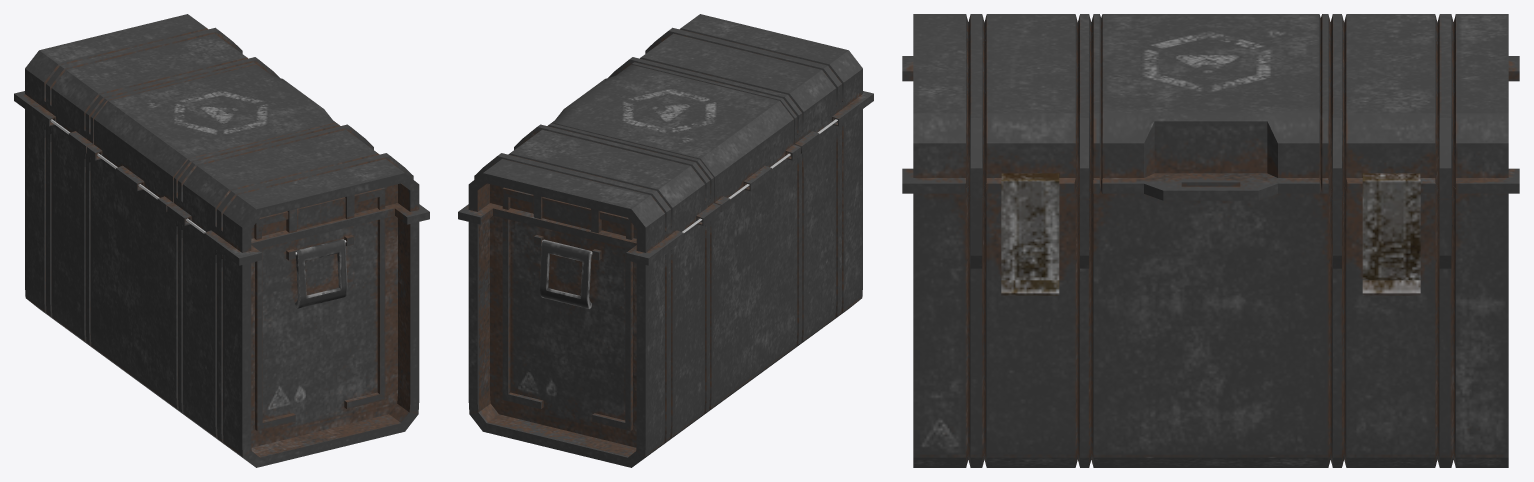
File: weapon_box.glb
3 renders of one model, left to right at view 1: azimuth 30°, elevation 25°; view 2: azimuth 150°, elevation 25°; view 3: azimuth 270°, elevation 25°, orthographic. The views are drawn at different scales.
Visible parts, largest first — view 1: Caja_low_Base_0, Tapa_low_Base_0, manija_low; view 2: Caja_low_Base_0, Tapa_low_Base_0, manija2_low; view 3: Caja_low_Base_0, Tapa_low_Base_0, Cerrojo_low_Base_0.
Part boxes in pixels (x1=…): Caja_low_Base_0: x1=25, y1=109, x2=419, y2=467; Tapa_low_Base_0: x1=14, y1=14, x2=429, y2=265; manija_low: x1=295, y1=239, x2=347, y2=308; Caja_low_Base_0: x1=468, y1=109, x2=862, y2=467; Tapa_low_Base_0: x1=458, y1=14, x2=873, y2=265; manija2_low: x1=539, y1=239, x2=591, y2=308; Caja_low_Base_0: x1=913, y1=186, x2=1508, y2=467; Tapa_low_Base_0: x1=902, y1=14, x2=1519, y2=200; Cerrojo_low_Base_0: x1=1001, y1=173, x2=1420, y2=295.
Bounding box in the file's own units: 22.36 × 27.48 × 43.37.
Materials: 1 (1 with a texture image).
